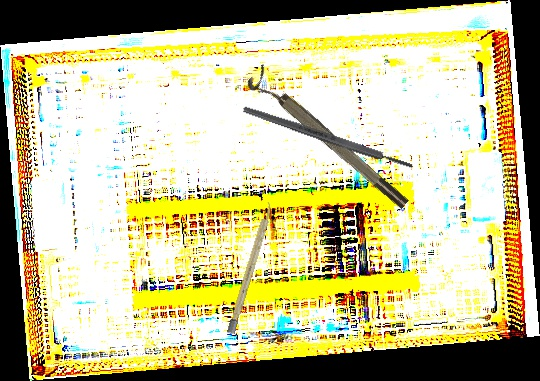Fixation Ring: (244, 63, 412, 219)
Scalpel Handle: (240, 103, 416, 172), (226, 201, 275, 335)
